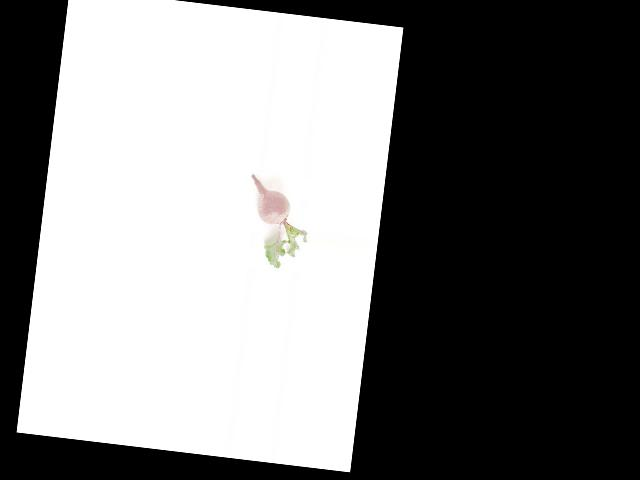beet: (240, 174, 314, 271)
